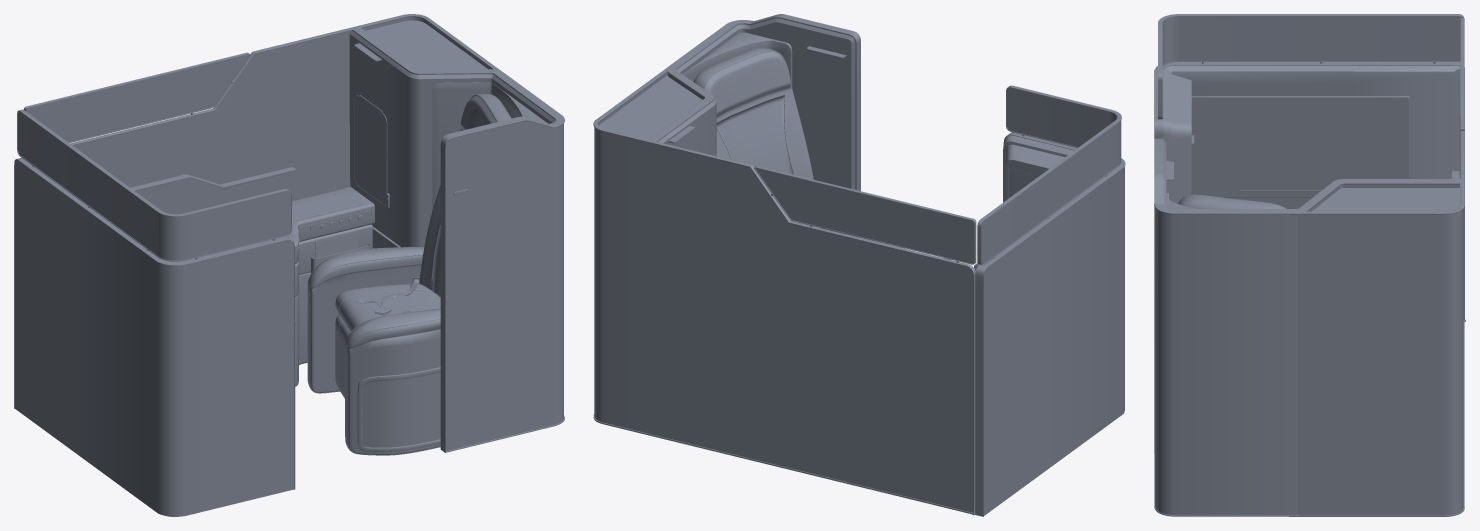
File: seat-first.glb
3 views of the same model, side by side, from view 1: azimuth 30°, elevation 25°; view 2: azimuth 150°, elevation 25°; view 3: azimuth 270°, elevation 25° (orthographic). The views are drawn at different scales.
Visible parts, largest first — view 1: First-Class-Seat; view 2: First-Class-Seat; view 3: First-Class-Seat.
Boxes of the visible parts, x1,y1,x2,y2 form: First-Class-Seat: (14, 14, 564, 516); First-Class-Seat: (593, 14, 1125, 516); First-Class-Seat: (1154, 14, 1465, 516).
Size of the model in its own units: 2.01 by 1.49 by 1.32.
